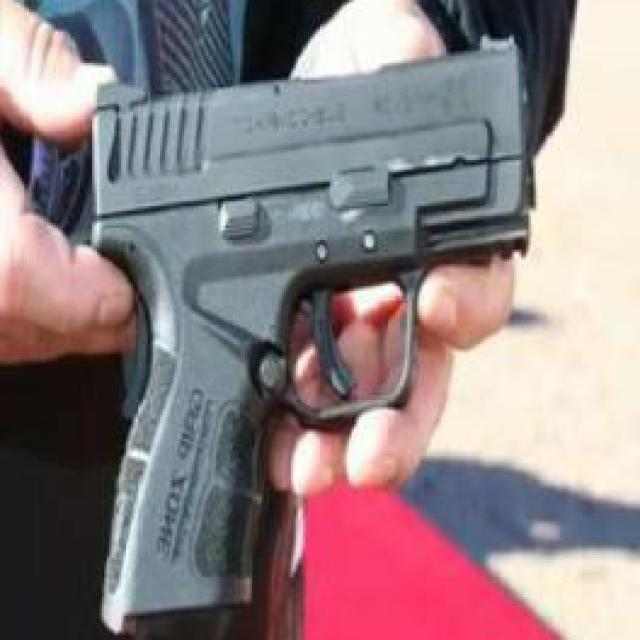pistol: (92, 34, 531, 640)
